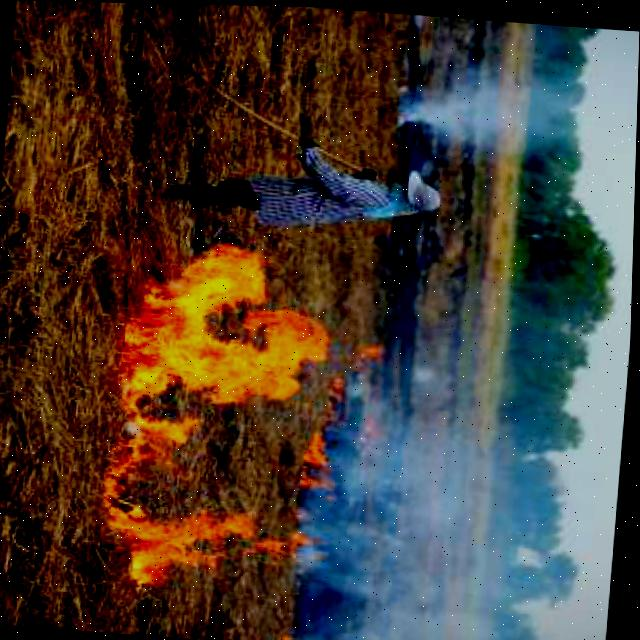Fire: (98, 225, 353, 598), (302, 330, 391, 500)
Smoke: (302, 412, 538, 640), (390, 64, 584, 158)
